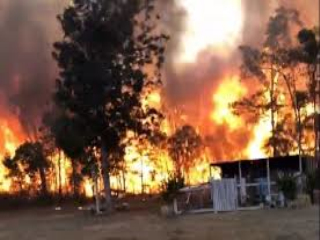fire: (117, 87, 199, 193), (201, 61, 274, 157), (1, 115, 43, 188)
